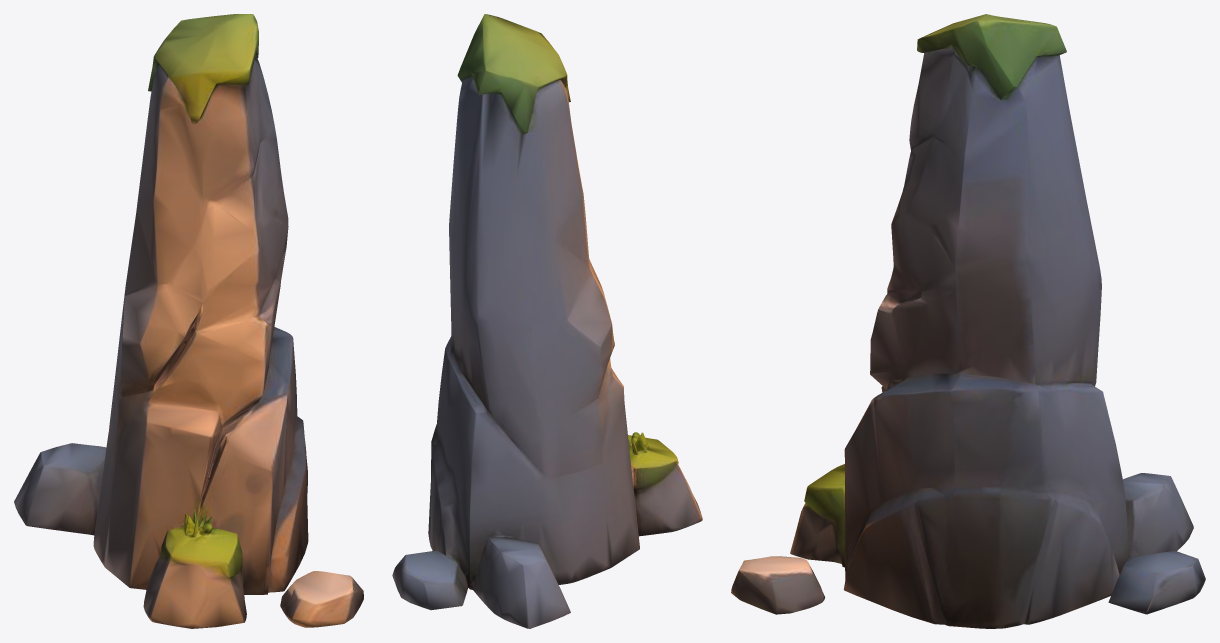
Rendered from rock_1.glb.
The picture shows the model from 3 angles, left to right: view 1: azimuth 30°, elevation 25°; view 2: azimuth 150°, elevation 25°; view 3: azimuth 270°, elevation 25°; orthographic projection. The views are drawn at different scales.
Visible parts, largest first — view 1: rock_1; view 2: rock_1; view 3: rock_1.
Boxes of the visible parts, x1=… form: rock_1: x1=14, y1=14, x2=363, y2=628; rock_1: x1=392, y1=14, x2=702, y2=628; rock_1: x1=731, y1=14, x2=1205, y2=628.
Bounding box in the file's own units: 0.255 × 0.6272 × 0.46.
1 material, 1 textured.
